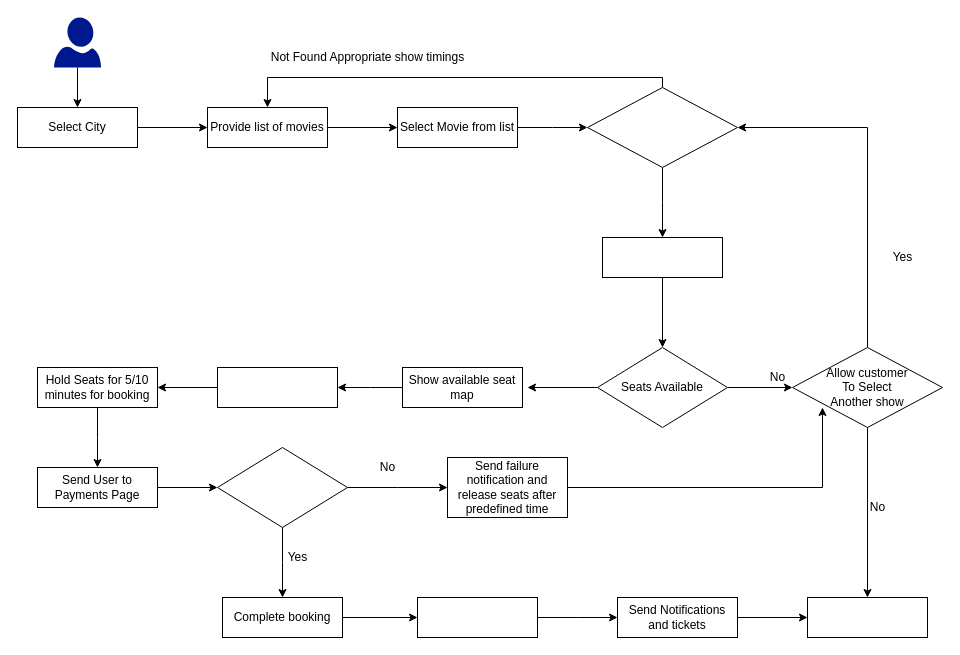
Image size: 960x655. Some labels were removed from this diagram. Each missing label, with the centre of its shape:
"Complete" belongs at point 867,617.
"Generate Tickets PDF" belongs at point 477,617.
"Is Payment success ?" belongs at point 282,487.
"Select Seats" belongs at point 277,387.
"Select Show" belongs at point 662,257.
"Show list of theater and show timings" belongs at point 662,127.
